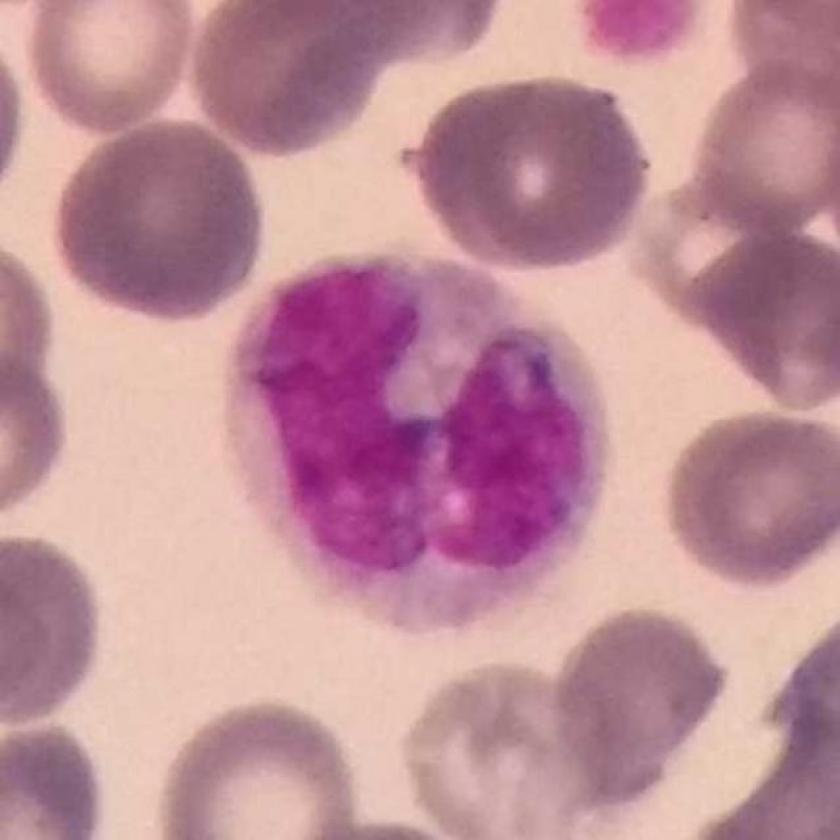monocyte: (216, 238, 619, 639)
